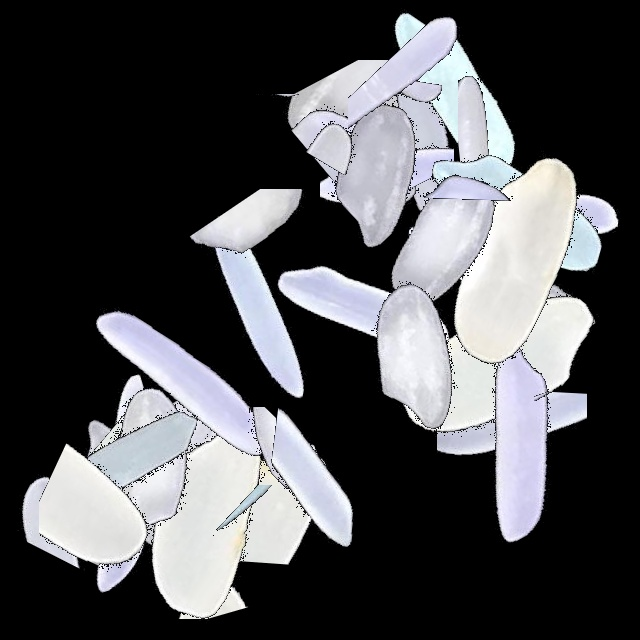Broken: (346, 0, 518, 250), (372, 0, 542, 250), (390, 188, 640, 354), (270, 354, 421, 604), (193, 362, 343, 612), (437, 340, 587, 590), (51, 426, 301, 575), (261, 56, 511, 203), (153, 292, 300, 542), (39, 390, 181, 640), (320, 0, 454, 250), (458, 21, 592, 271), (16, 370, 149, 620), (60, 390, 192, 640), (155, 189, 405, 321), (249, 60, 499, 190), (348, 0, 478, 250), (359, 0, 487, 250), (115, 407, 365, 526), (390, 199, 640, 309), (406, 19, 516, 269), (221, 370, 330, 620), (483, 116, 591, 366), (64, 434, 314, 535), (259, 76, 509, 174), (153, 485, 403, 583), (126, 94, 376, 187), (303, 0, 393, 250), (390, 207, 640, 295), (534, 300, 618, 550), (76, 537, 326, 619)
Full: (253, 3, 503, 253), (118, 390, 368, 640), (237, 183, 487, 433), (0, 358, 250, 608), (0, 359, 250, 609), (254, 45, 504, 295), (390, 95, 640, 345), (390, 242, 640, 492), (372, 237, 622, 487), (390, 85, 640, 335), (390, 315, 640, 565), (390, 134, 640, 384), (85, 390, 335, 640), (317, 116, 567, 366), (58, 257, 308, 507), (16, 341, 266, 591), (293, 231, 543, 481), (135, 181, 385, 431), (10, 329, 260, 579)
